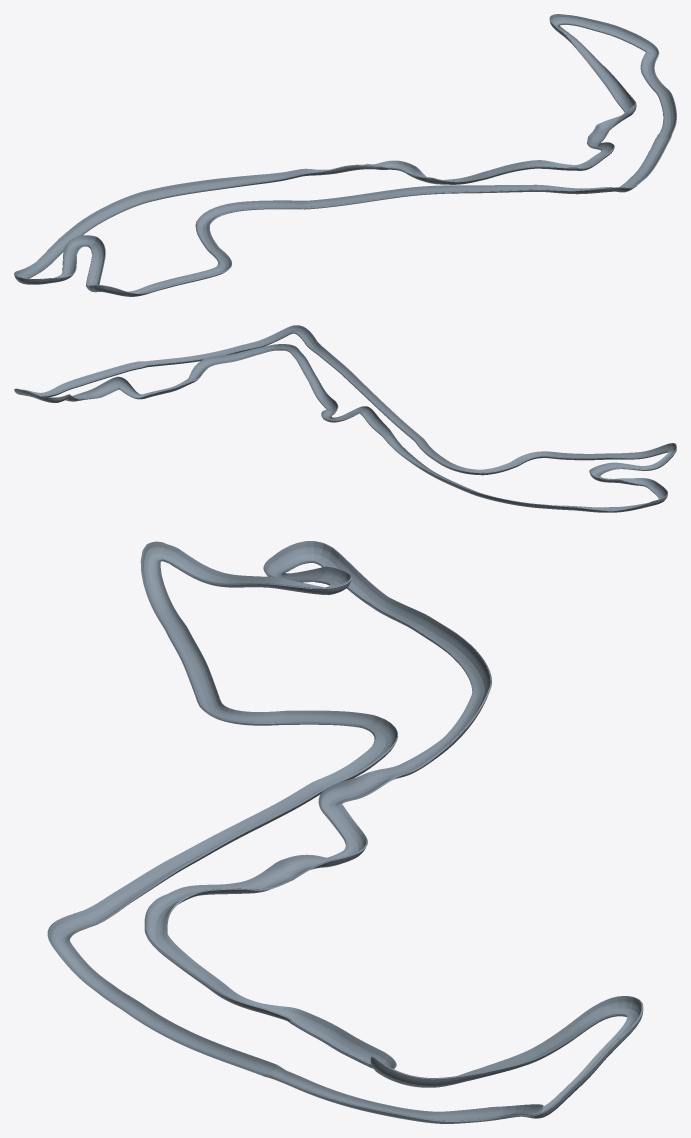
File: gyrace-build-monaco.glb
The picture shows the model from 3 angles, top to bottom: view 1: azimuth 30°, elevation 25°; view 2: azimuth 150°, elevation 25°; view 3: azimuth 270°, elevation 25°; orthographic projection. The views are drawn at different scales.
Visible parts, largest first — view 1: monaco; view 2: monaco; view 3: monaco.
Part boxes in pixels (x1,y1,x2,y2): monaco: [14, 14, 676, 296]; monaco: [14, 325, 676, 512]; monaco: [47, 541, 643, 1123].
Size of the model in its own units: 4 by 0.2838 by 1.74.
